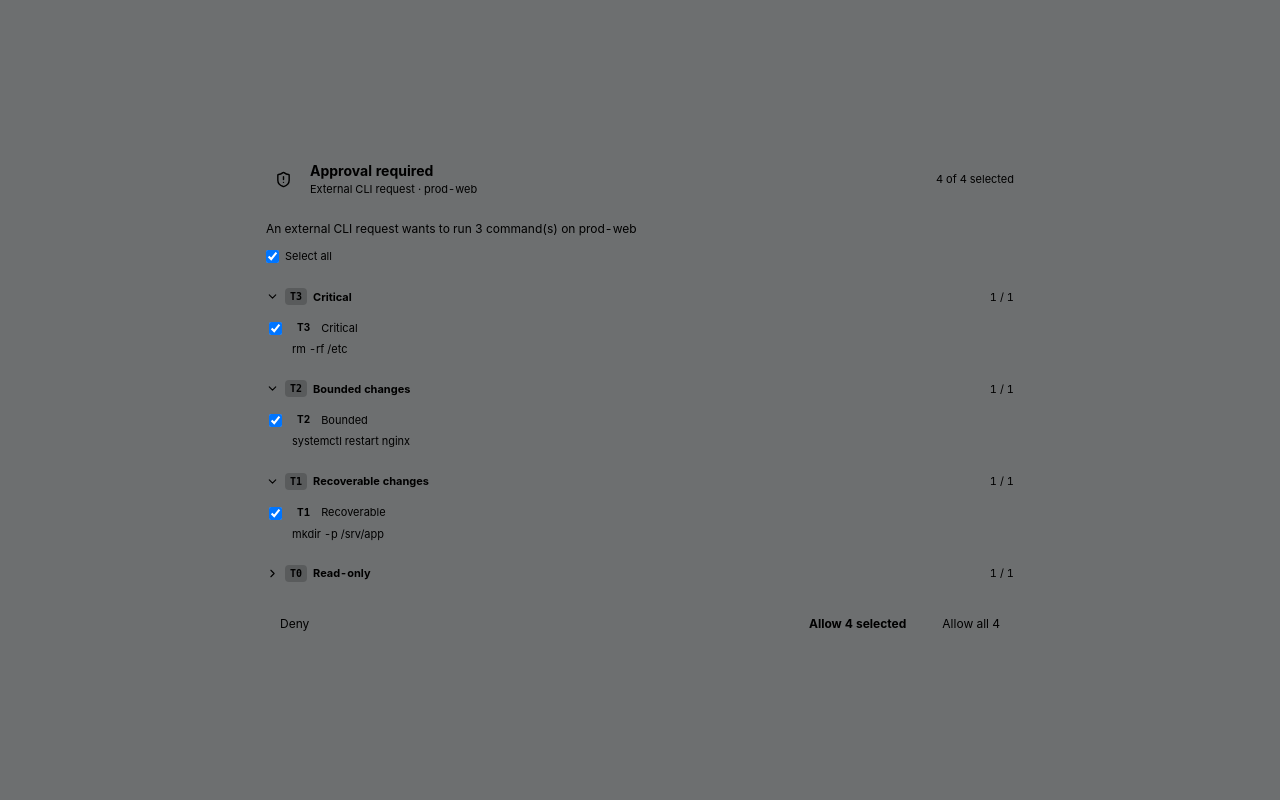
Test: CliApprovalPanel › expands a collapsed group on demand
Click the button "T0 Read-only 1 / 1" at [342, 573], box [258,559,1022,588]
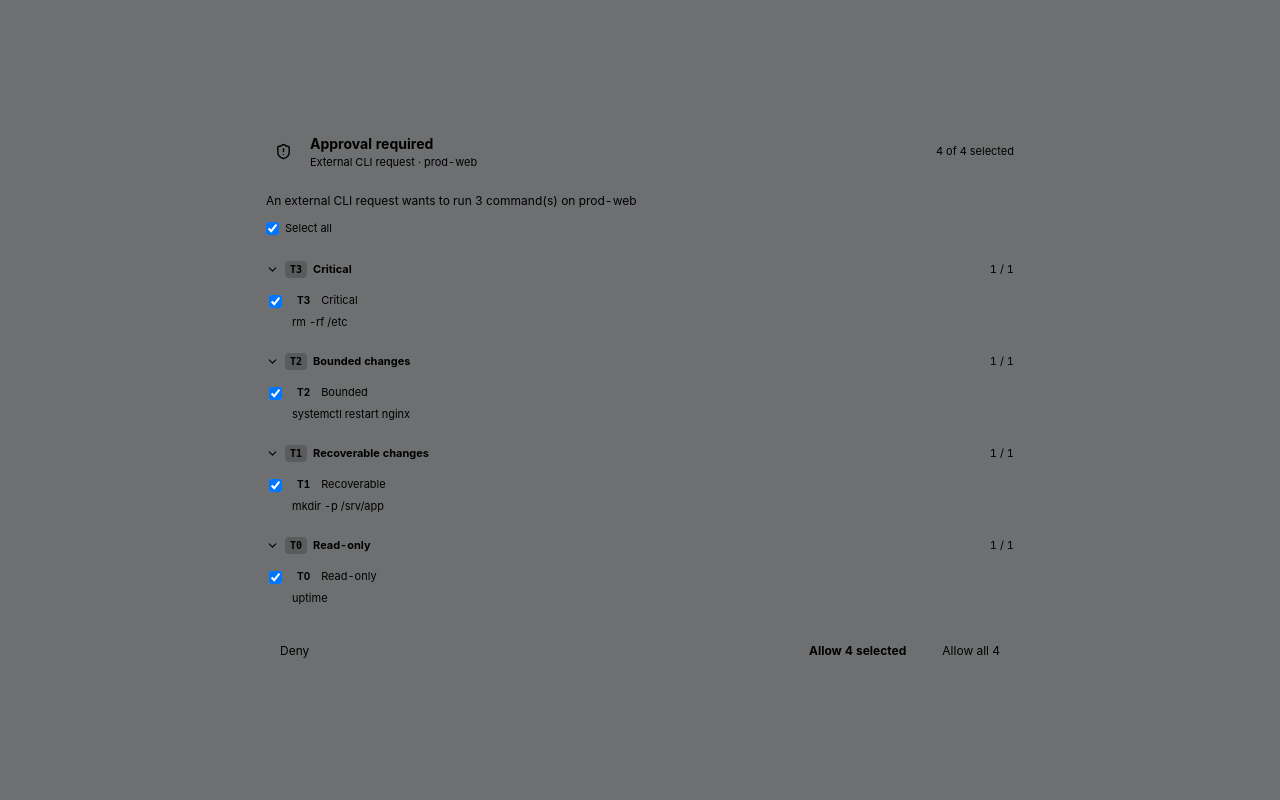
Result: the text "uptime" is shown at [292,591,328,605]
